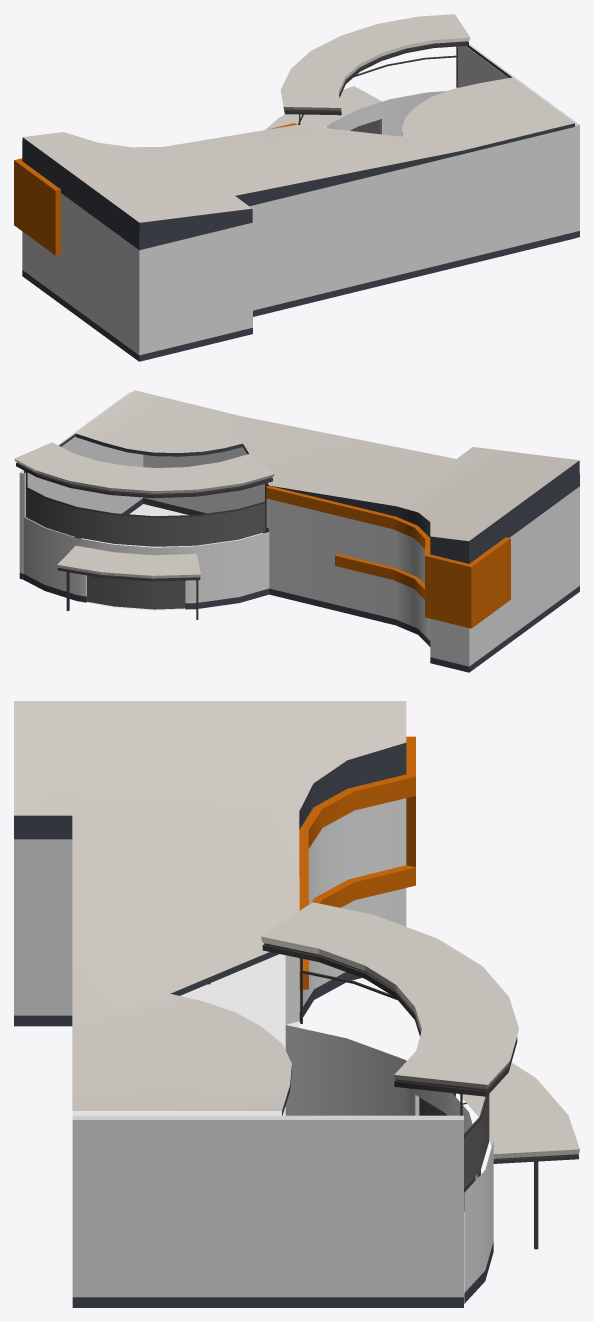
3 renders of one model, top to bottom at view 1: azimuth 30°, elevation 25°; view 2: azimuth 150°, elevation 25°; view 3: azimuth 270°, elevation 25°, orthographic. The views are drawn at different scales.
Visible parts, largest first — view 1: Local_tipo2; view 2: Local_tipo2; view 3: Local_tipo2.
Part boxes in pixels (left/top/right/bottom): Local_tipo2: left=14, top=14, right=579, bottom=361; Local_tipo2: left=14, top=390, right=579, bottom=672; Local_tipo2: left=14, top=701, right=579, bottom=1307.
Size of the model in its own units: 0.757 by 0.2168 by 0.4779.
